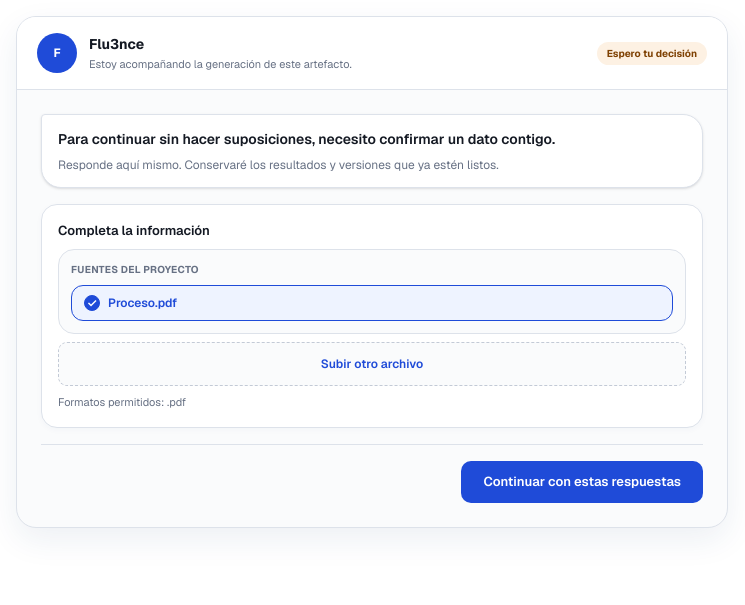
Test: QuestionForm: needs_input › conserva los sourceId si el envío de respuestas falla
Later steps or results of the test are not shown.
Expected: the text "Proceso.pdf" is shown, x1=108 y1=295 x2=177 y2=311
Click the button "Continuar con estas respuestas" at (582, 482), box x1=462 y1=460 x2=703 y2=502
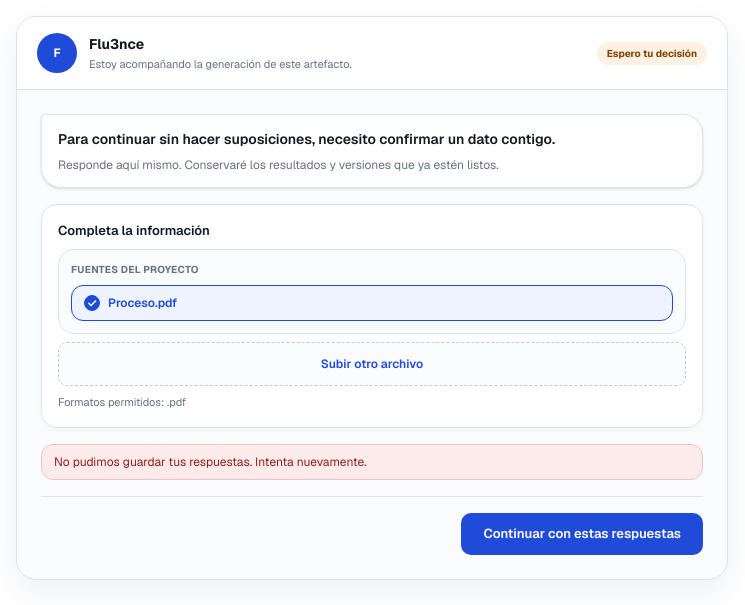
Expected: the text "No pudimos guardar tus respuestas. Intenta nuevamente." is shown, x1=41 y1=444 x2=703 y2=480
